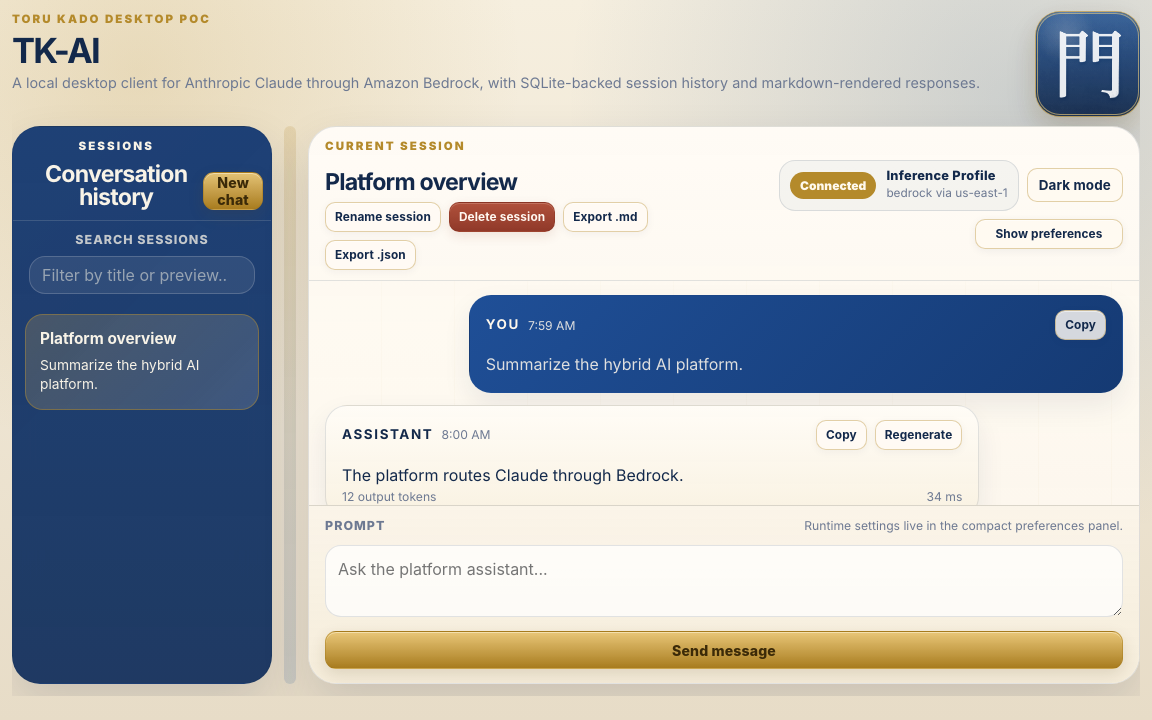
Test: App layout behavior › deletes the active session and clears the thread when none remain
The width and height of the screenshot is (1152, 720).
Check: the text "Connected" is shown, box [790, 172, 876, 199]
Click the button "Delete session" at coordinates (502, 217), box [449, 202, 555, 232]
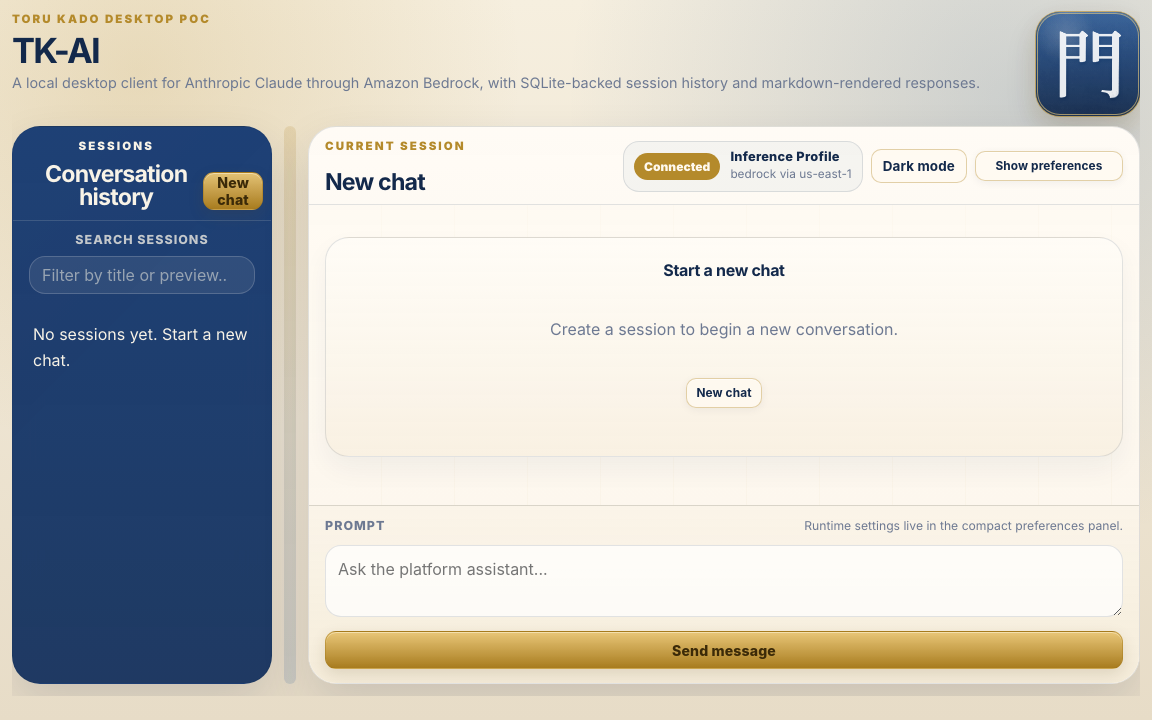
Check: the text "Create a session to begin a new conversation." is shown, box [550, 319, 898, 339]
